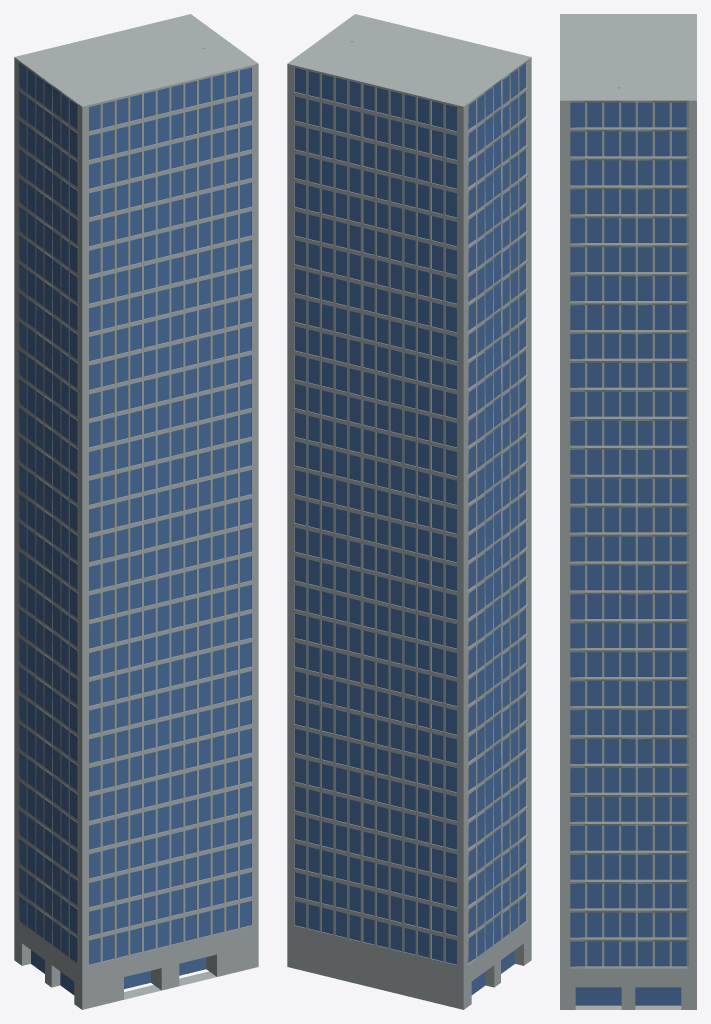
The model's file is bill_003.fbx.
The picture shows the model from 3 angles, left to right: view 1: azimuth 30°, elevation 25°; view 2: azimuth 150°, elevation 25°; view 3: azimuth 270°, elevation 25°; orthographic projection.
Visible parts, largest first — view 1: building.000; view 2: building.000; view 3: building.000.
Part boxes in pixels (left/top/right/bottom): building.000: left=14, top=14, right=258, bottom=1009; building.000: left=287, top=14, right=531, bottom=1009; building.000: left=560, top=14, right=696, bottom=1009.
Size of the model in its own units: 3000 by 14667 by 2000.
